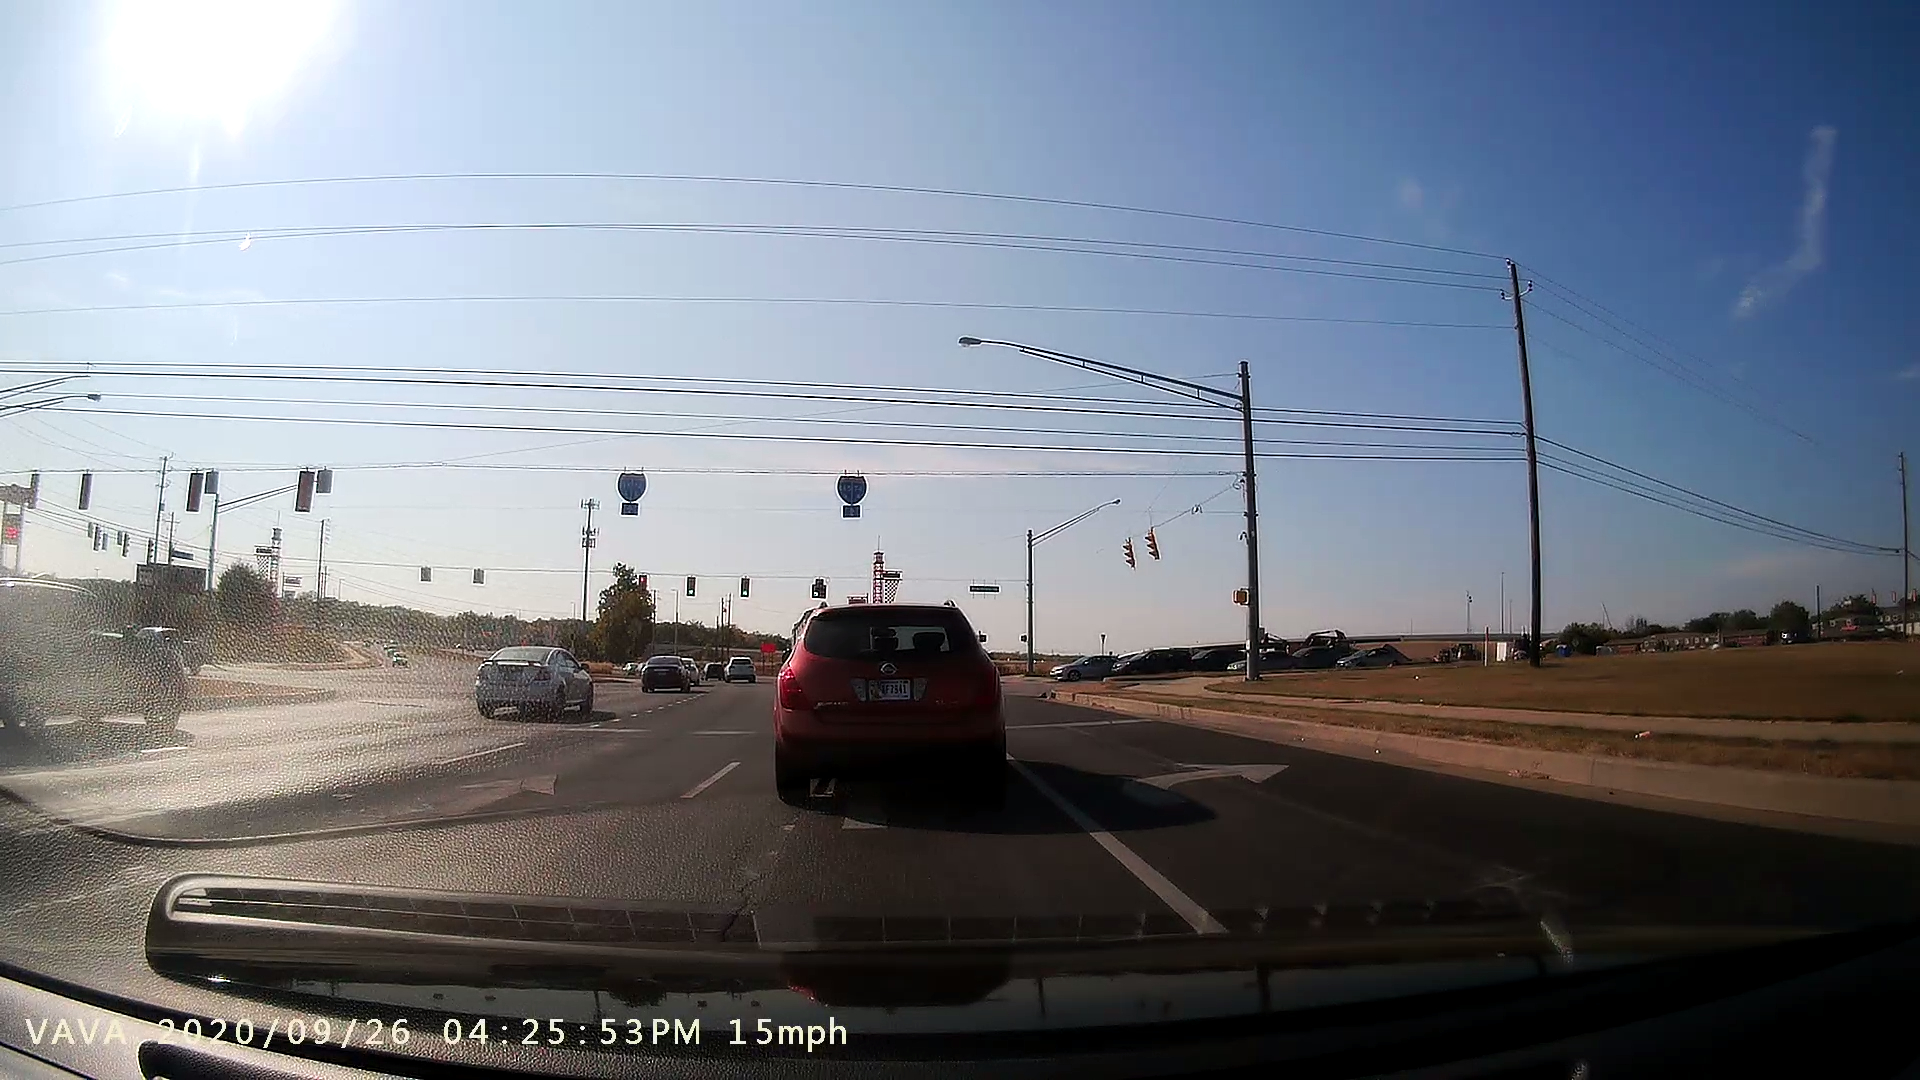right_turn: (1117, 746, 1302, 829)
